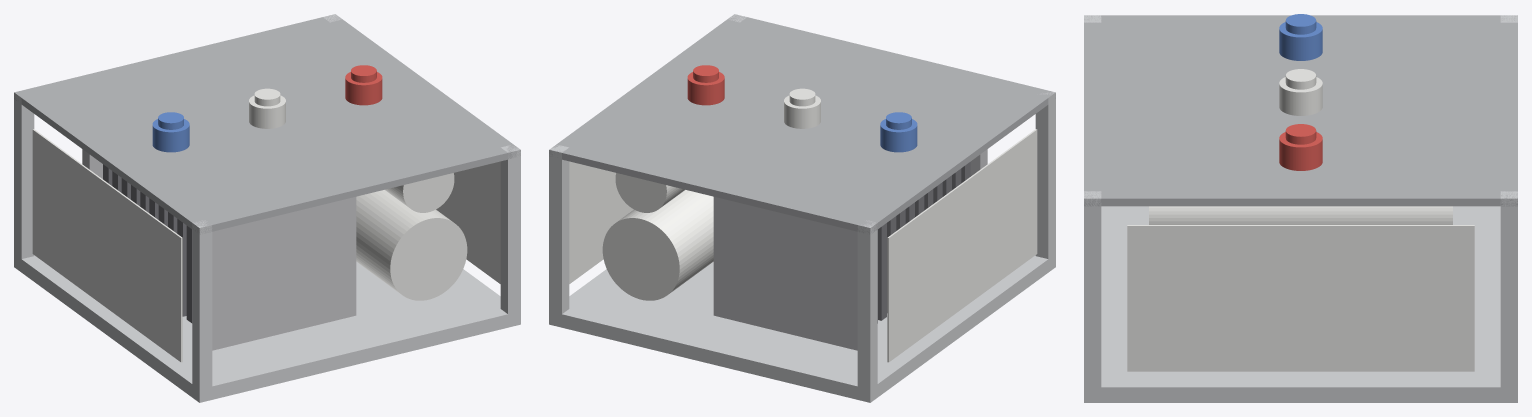
The model's file is rover39_water_electrolyser.glb.
The picture shows the model from 3 angles, left to right: view 1: azimuth 30°, elevation 25°; view 2: azimuth 150°, elevation 25°; view 3: azimuth 270°, elevation 25°; orthographic projection. The views are drawn at different scales.
Visible parts, largest first — view 1: top_plate, frame, side_panels, stack_endplates, tanks, stack, port_1, port_3, port_2; view 2: top_plate, frame, side_panels, stack_endplates, tanks, stack, port_1, port_3, port_2; view 3: top_plate, side_panels, frame, tanks, port_1, port_2, port_3.
Boxes of the visible parts, x1=… form: top_plate: x1=14, y1=15, x2=520, y2=234; frame: x1=14, y1=14, x2=520, y2=402; side_panels: x1=32, y1=129, x2=500, y2=362; stack_endplates: x1=82, y1=149, x2=356, y2=350; tanks: x1=356, y1=173, x2=467, y2=300; stack: x1=103, y1=164, x2=192, y2=323; port_1: x1=152, y1=112, x2=189, y2=152; port_3: x1=345, y1=65, x2=382, y2=105; port_2: x1=249, y1=88, x2=285, y2=128; top_plate: x1=549, y1=15, x2=1055, y2=234; frame: x1=549, y1=14, x2=1055, y2=402; side_panels: x1=569, y1=129, x2=1037, y2=362; stack_endplates: x1=713, y1=149, x2=987, y2=350; tanks: x1=602, y1=173, x2=713, y2=300; stack: x1=877, y1=162, x2=970, y2=323; port_1: x1=880, y1=112, x2=917, y2=152; port_3: x1=687, y1=65, x2=724, y2=105; port_2: x1=784, y1=88, x2=820, y2=128; top_plate: x1=1084, y1=15, x2=1517, y2=206; side_panels: x1=1127, y1=225, x2=1474, y2=371; frame: x1=1084, y1=15, x2=1517, y2=402; tanks: x1=1149, y1=206, x2=1452, y2=224; port_1: x1=1279, y1=14, x2=1322, y2=60; port_2: x1=1279, y1=69, x2=1322, y2=115; port_3: x1=1279, y1=124, x2=1322, y2=170.
Bounding box in the file's own units: 1 × 0.6 × 1.
